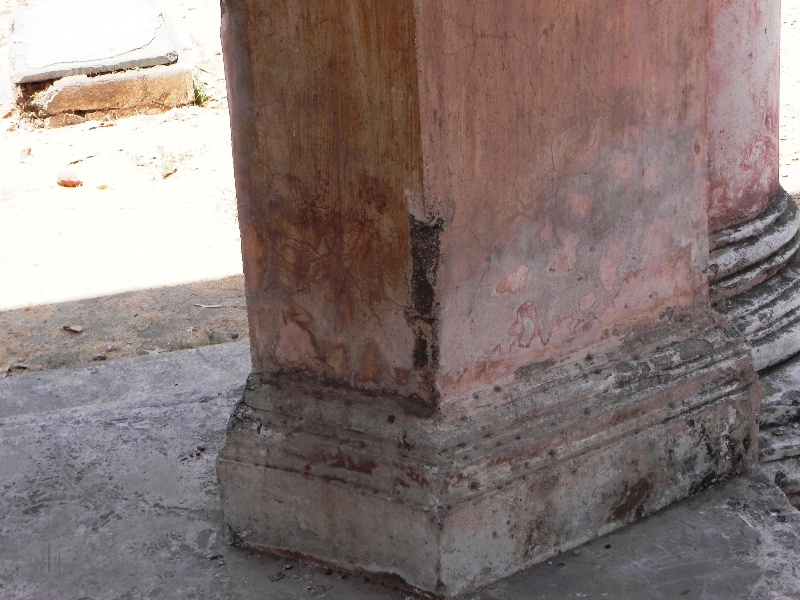Spalling: (391, 201, 448, 385)
